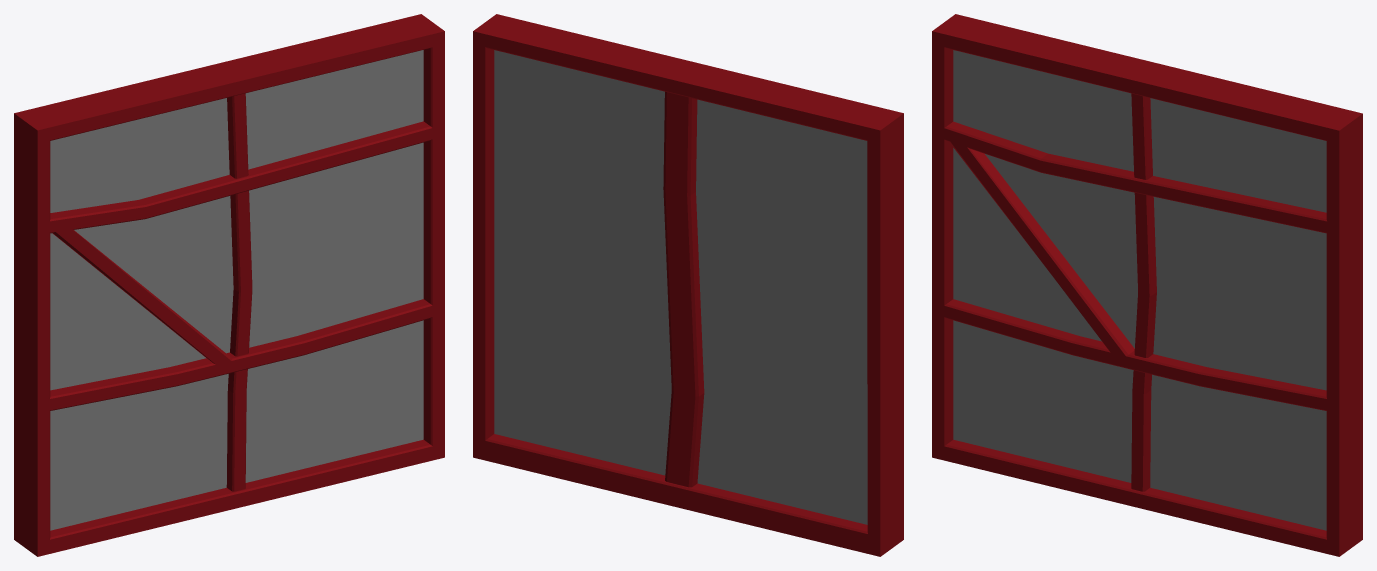
Rendered from SM_MH_01_Wood_02_Wall_02.fbx.
The picture shows the model from 3 angles, left to right: view 1: azimuth 30°, elevation 25°; view 2: azimuth 150°, elevation 25°; view 3: azimuth 330°, elevation 25°; orthographic projection.
Parts seen in each view (by area): view 1: SM_MH_01_Wood_02_Wall_02_LOD0; view 2: SM_MH_01_Wood_02_Wall_02_LOD0; view 3: SM_MH_01_Wood_02_Wall_02_LOD0.
Boxes of the visible parts, x1=… form: SM_MH_01_Wood_02_Wall_02_LOD0: x1=14, y1=14, x2=444, y2=556; SM_MH_01_Wood_02_Wall_02_LOD0: x1=473, y1=14, x2=903, y2=556; SM_MH_01_Wood_02_Wall_02_LOD0: x1=932, y1=14, x2=1362, y2=556.
Size of what is drawn, in the model's own units: 300 by 300 by 30.
